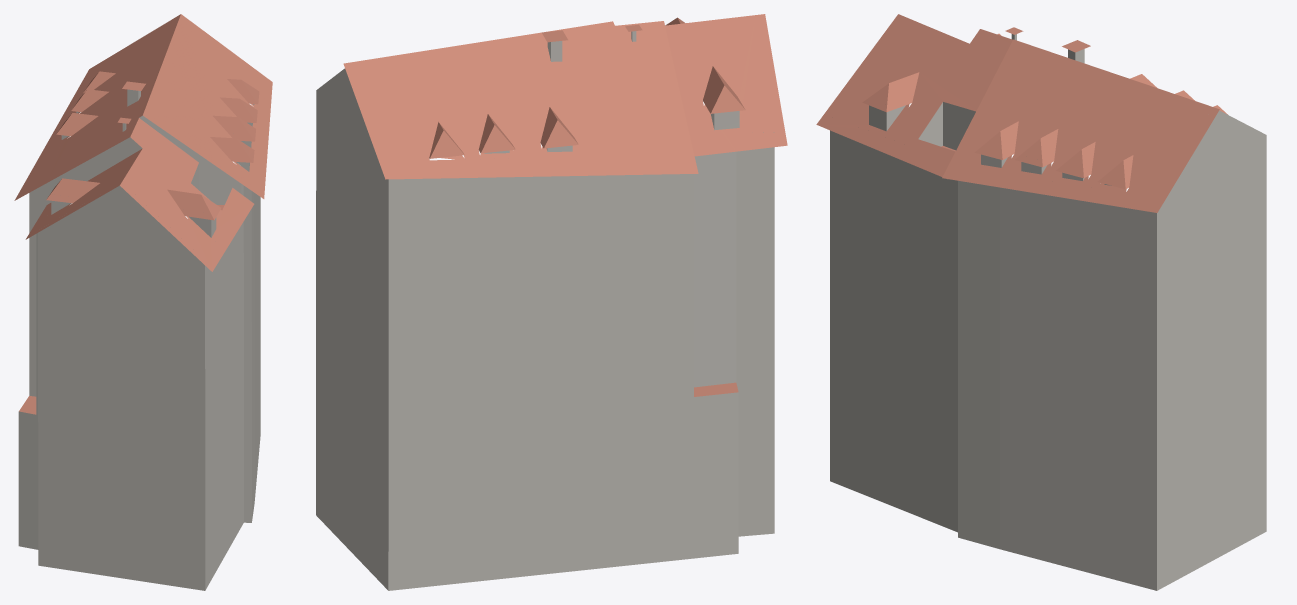
The picture shows the model from 3 angles, left to right: view 1: azimuth 30°, elevation 25°; view 2: azimuth 150°, elevation 25°; view 3: azimuth 270°, elevation 25°; orthographic projection. The views are drawn at different scales.
Visible parts, largest first — view 1: swisstopo:swissbuildings3d:1037f717-3c1d-41ab-bd07-fde6dc36a; view 2: swisstopo:swissbuildings3d:1037f717-3c1d-41ab-bd07-fde6dc36a; view 3: swisstopo:swissbuildings3d:1037f717-3c1d-41ab-bd07-fde6dc36a.
Part boxes in pixels (x1,y1,x2,y2): swisstopo:swissbuildings3d:1037f717-3c1d-41ab-bd07-fde6dc36a: (14,14,272,590); swisstopo:swissbuildings3d:1037f717-3c1d-41ab-bd07-fde6dc36a: (316,14,787,590); swisstopo:swissbuildings3d:1037f717-3c1d-41ab-bd07-fde6dc36a: (816,14,1266,590).
Bounding box in the file's own units: 22.22 × 26.85 × 24.84.
